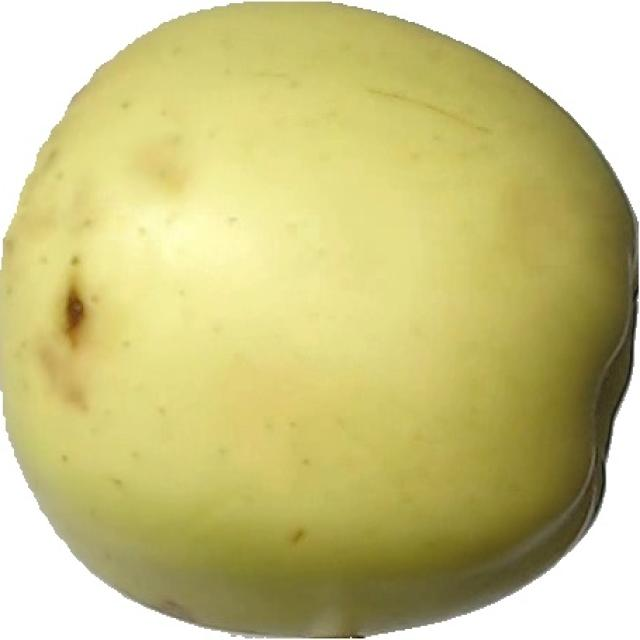Golden Elma: (8, 1, 639, 640)
